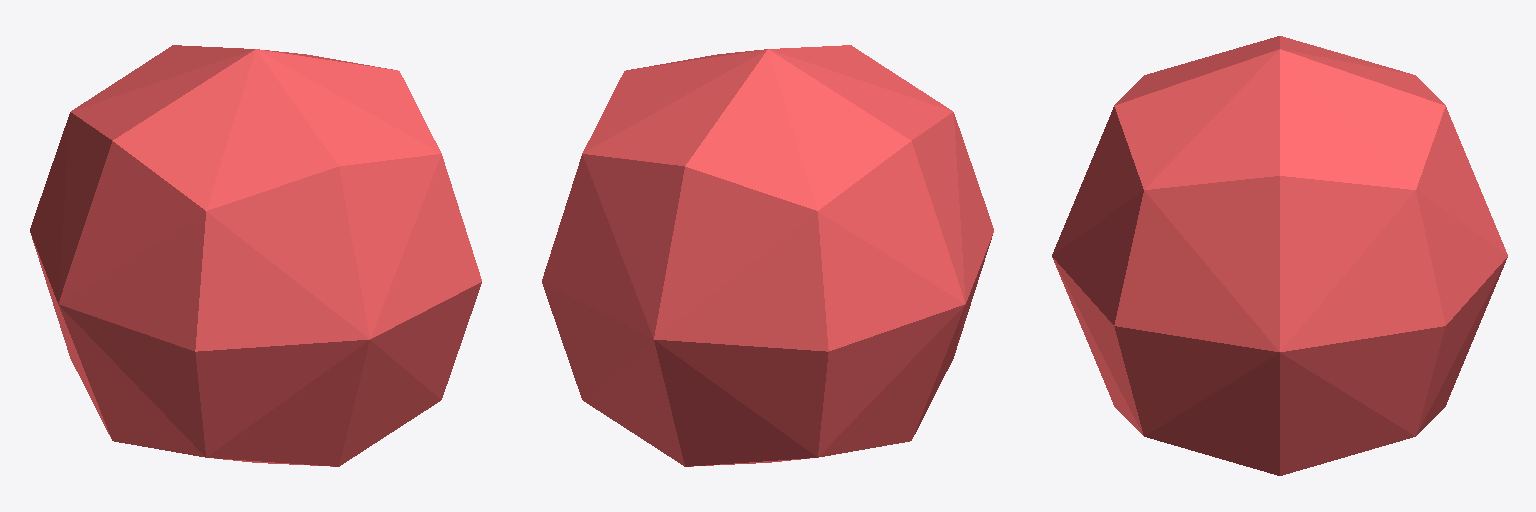
The picture shows the model from 3 angles: view 1: azimuth 30°, elevation 25°; view 2: azimuth 150°, elevation 25°; view 3: azimuth 270°, elevation 25°; orthographic projection.
Parts seen in each view (by area): view 1: Cube; view 2: Cube; view 3: Cube.
Part boxes in pixels (left/top/right/bottom): Cube: left=30, top=45, right=481, bottom=466; Cube: left=542, top=45, right=993, bottom=466; Cube: left=1052, top=36, right=1507, bottom=475.
Size of the model in its own units: 1.68 by 1.68 by 1.68.
1 materials, 1 textured.